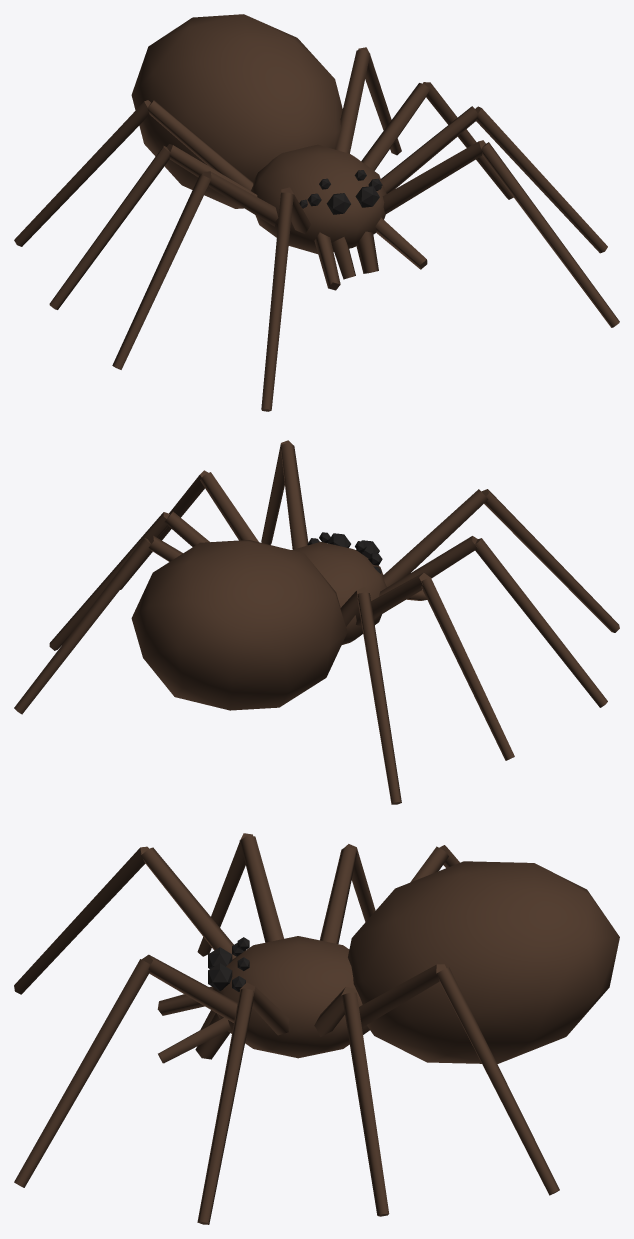
File: spider.glb
3 views of the same model, one above another, from view 1: azimuth 30°, elevation 25°; view 2: azimuth 150°, elevation 25°; view 3: azimuth 270°, elevation 25° (orthographic). The views are drawn at different scales.
Visible parts, largest first — view 1: spider; view 2: spider; view 3: spider.
Boxes of the visible parts, bbox=[...] form: spider: bbox=[14, 14, 619, 411]; spider: bbox=[14, 440, 619, 804]; spider: bbox=[14, 833, 619, 1224].
Size of the model in its own units: 2.75 by 1.01 by 2.56.
